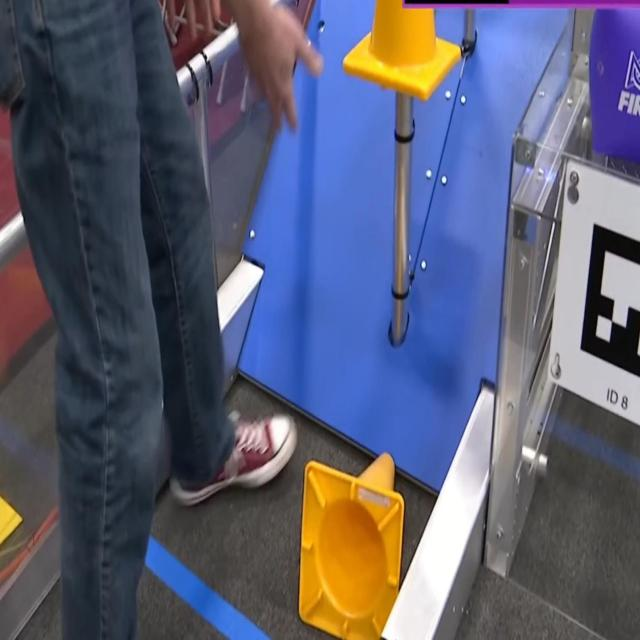frc_cone: (293, 439, 412, 640), (342, 0, 464, 103)
frc_cube: (590, 0, 640, 175)
